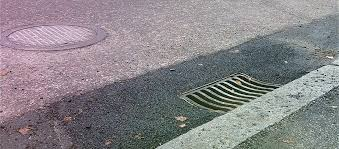Manhole-Closed: (2, 25, 122, 57)
